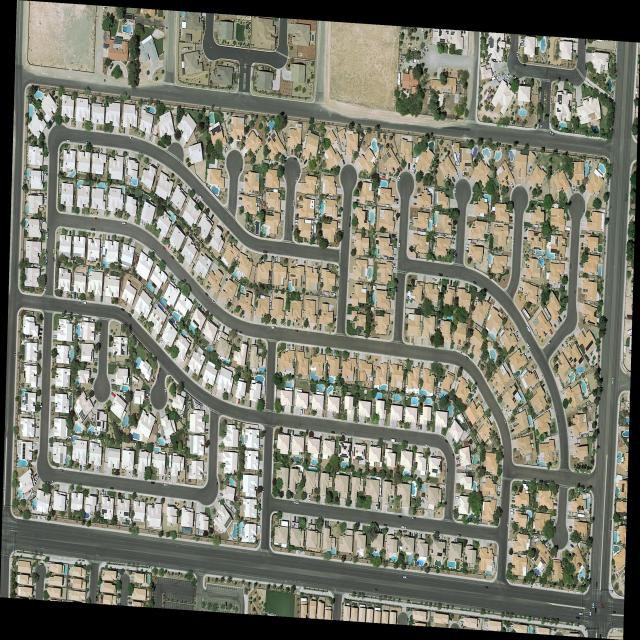large-vehicle: (198, 194, 204, 201), (137, 375, 142, 382), (390, 438, 396, 443), (276, 256, 278, 263)
ship: (534, 537, 539, 544), (532, 534, 537, 539), (412, 47, 416, 52), (523, 63, 526, 67)
small-vehicle: (109, 62, 114, 70), (52, 116, 57, 123), (111, 391, 116, 398), (92, 399, 97, 406), (526, 341, 530, 349), (504, 418, 508, 426), (558, 315, 562, 323), (483, 287, 488, 293), (444, 438, 449, 444), (469, 397, 474, 403), (170, 254, 175, 260), (570, 543, 575, 549), (413, 168, 417, 175), (421, 498, 425, 505), (495, 389, 499, 396), (455, 172, 459, 179), (601, 603, 605, 610), (489, 88, 493, 95), (199, 15, 203, 22), (293, 501, 300, 505), (507, 71, 511, 78), (423, 47, 427, 54), (160, 338, 164, 345), (41, 483, 45, 490), (183, 185, 187, 192), (390, 143, 394, 150), (397, 167, 401, 174), (155, 415, 158, 424), (523, 236, 528, 241), (456, 463, 461, 468), (510, 428, 515, 433), (512, 74, 517, 79), (238, 330, 243, 335), (168, 398, 173, 403), (35, 476, 39, 482), (292, 200, 295, 208), (50, 118, 54, 124), (515, 330, 519, 336), (524, 227, 528, 233), (525, 350, 529, 356), (496, 392, 500, 398), (554, 552, 558, 558), (546, 541, 550, 547), (589, 608, 592, 616), (162, 245, 166, 251), (304, 159, 308, 165), (222, 325, 225, 333), (173, 278, 177, 284), (171, 277, 175, 283), (262, 250, 268, 254), (210, 214, 214, 220), (149, 408, 153, 414), (194, 196, 198, 202), (340, 154, 344, 160), (319, 323, 322, 331), (168, 472, 171, 479), (529, 165, 532, 172), (527, 326, 530, 333), (582, 209, 585, 216), (452, 176, 455, 183), (398, 240, 401, 247), (450, 279, 453, 286), (594, 607, 597, 614), (627, 403, 630, 410), (523, 79, 526, 86), (191, 501, 194, 508), (100, 246, 103, 253), (344, 499, 347, 506), (287, 428, 290, 435), (378, 502, 381, 509), (123, 128, 126, 135), (341, 141, 344, 148), (300, 345, 303, 352), (205, 292, 209, 297), (212, 299, 216, 304), (34, 473, 38, 478), (528, 186, 532, 191), (295, 177, 299, 182), (549, 330, 553, 335), (527, 356, 531, 361), (451, 237, 456, 241), (414, 59, 419, 63), (397, 177, 401, 182), (440, 435, 444, 440), (401, 525, 406, 529), (465, 356, 469, 361), (438, 273, 443, 277), (473, 280, 477, 285), (510, 508, 515, 512), (496, 491, 501, 495), (455, 456, 460, 460), (497, 75, 501, 80), (492, 71, 496, 76), (392, 234, 396, 239), (408, 59, 413, 63), (572, 49, 577, 53), (561, 392, 565, 397), (256, 525, 261, 529), (204, 428, 209, 432), (46, 481, 50, 486), (41, 221, 46, 225), (152, 248, 156, 253), (150, 481, 155, 485), (484, 585, 489, 589), (199, 52, 203, 57), (337, 214, 342, 218), (389, 257, 394, 261), (225, 145, 228, 151), (240, 167, 243, 173), (158, 368, 161, 374), (165, 389, 168, 395), (82, 464, 85, 470), (508, 77, 511, 83), (511, 182, 514, 188), (562, 344, 565, 350), (299, 153, 302, 159), (425, 46, 428, 52), (399, 166, 402, 172), (476, 291, 479, 297), (452, 453, 455, 459), (592, 603, 595, 609), (521, 80, 524, 86), (422, 51, 425, 57), (554, 323, 557, 329), (565, 340, 568, 346), (420, 533, 423, 539), (249, 401, 252, 407), (95, 595, 98, 601), (216, 482, 219, 488), (216, 321, 219, 327), (100, 148, 103, 154), (69, 230, 72, 236), (20, 411, 26, 414), (291, 225, 294, 231), (296, 516, 299, 522), (324, 520, 327, 526), (511, 624, 514, 630), (298, 170, 301, 176), (384, 166, 387, 172), (302, 346, 305, 352), (272, 326, 276, 330), (550, 131, 554, 135), (547, 341, 551, 345), (412, 516, 416, 520), (569, 431, 573, 435), (515, 334, 519, 338), (410, 219, 414, 223), (413, 202, 417, 206), (452, 226, 456, 230), (451, 230, 455, 234), (451, 241, 455, 245), (382, 176, 386, 180), (382, 172, 386, 176), (378, 171, 382, 175), (511, 496, 515, 500), (456, 460, 460, 464), (498, 464, 502, 468), (612, 610, 616, 614), (579, 612, 583, 616), (576, 616, 580, 620), (580, 265, 584, 269), (128, 601, 132, 605), (116, 597, 120, 601), (32, 589, 36, 593), (259, 444, 263, 448), (145, 395, 149, 399), (50, 480, 54, 484), (279, 424, 283, 428), (398, 515, 402, 519), (240, 188, 244, 192), (293, 157, 297, 161), (295, 219, 299, 223), (386, 204, 390, 208), (122, 222, 127, 225), (143, 222, 146, 227), (170, 246, 173, 251), (224, 148, 227, 153), (218, 501, 221, 506), (93, 358, 98, 361), (503, 75, 506, 80), (488, 86, 491, 91), (557, 350, 560, 355), (557, 319, 560, 324), (412, 166, 415, 171), (102, 7, 107, 10), (522, 275, 527, 278), (542, 382, 545, 387), (533, 196, 538, 199), (496, 486, 501, 489), (33, 412, 38, 415), (409, 423, 412, 428), (274, 162, 279, 165), (254, 339, 257, 344), (300, 408, 302, 415), (102, 489, 104, 496), (540, 124, 542, 131), (507, 521, 509, 528), (434, 451, 436, 458), (596, 581, 598, 588), (96, 585, 98, 592), (262, 486, 264, 493), (292, 344, 294, 351), (104, 490, 106, 497), (97, 490, 99, 497), (320, 435, 322, 442), (292, 492, 294, 499), (507, 626, 509, 633), (333, 349, 335, 356), (331, 349, 333, 356), (321, 348, 323, 355), (213, 69, 215, 76), (151, 379, 154, 383), (152, 376, 155, 380), (141, 220, 143, 226), (149, 135, 151, 141), (376, 505, 378, 511), (292, 322, 294, 328), (349, 222, 351, 228), (46, 257, 48, 263), (91, 228, 95, 231), (72, 292, 74, 298), (74, 292, 76, 298), (14, 351, 16, 357), (99, 330, 101, 336), (91, 319, 95, 322), (33, 443, 37, 446), (80, 465, 82, 471), (96, 466, 98, 472), (86, 574, 90, 577), (164, 483, 168, 486), (520, 43, 524, 46), (505, 77, 508, 81), (519, 287, 523, 290), (581, 99, 583, 105), (573, 185, 575, 191), (575, 186, 577, 192), (454, 188, 456, 194), (408, 163, 410, 169), (394, 201, 398, 204), (393, 247, 397, 250), (425, 444, 429, 447), (403, 576, 407, 579), (45, 285, 47, 291), (46, 233, 48, 239), (414, 195, 417, 199), (517, 337, 520, 341), (453, 281, 455, 287), (509, 219, 513, 222), (509, 216, 513, 219), (466, 247, 470, 250), (417, 228, 421, 231), (378, 175, 382, 178), (420, 424, 422, 430), (104, 48, 108, 51), (434, 530, 438, 533), (510, 518, 514, 521), (510, 512, 514, 515), (511, 500, 515, 503), (409, 445, 411, 451), (432, 452, 434, 458), (554, 503, 558, 506), (294, 516, 296, 522), (551, 519, 555, 522), (554, 499, 557, 503), (569, 526, 573, 529), (580, 235, 584, 238), (579, 262, 583, 265), (568, 512, 572, 515), (441, 535, 443, 541), (418, 533, 420, 539), (116, 576, 120, 579), (257, 513, 261, 516), (288, 344, 290, 350), (275, 256, 277, 262), (162, 474, 164, 480), (136, 495, 138, 501), (43, 197, 47, 200), (111, 379, 115, 382), (50, 444, 54, 447), (110, 487, 114, 490), (328, 435, 330, 441), (371, 441, 373, 447), (384, 523, 388, 526), (410, 531, 412, 537), (460, 621, 464, 624), (509, 624, 511, 630), (239, 197, 243, 200), (379, 155, 381, 161), (395, 198, 399, 201), (337, 222, 341, 225), (393, 254, 397, 257), (392, 263, 396, 266), (168, 244, 170, 249), (238, 399, 240, 404), (157, 374, 159, 379), (76, 293, 78, 298), (99, 466, 101, 471), (513, 239, 515, 244), (291, 150, 293, 155), (455, 497, 460, 499), (446, 469, 448, 474), (53, 249, 55, 254), (91, 124, 93, 129), (43, 173, 48, 175), (454, 538, 456, 543), (416, 423, 418, 428), (108, 235, 110, 240), (411, 532, 413, 537), (386, 443, 388, 448), (292, 430, 294, 435), (311, 519, 313, 524), (327, 521, 329, 526), (220, 493, 223, 496), (146, 393, 149, 396), (60, 469, 63, 472), (40, 563, 43, 566), (47, 567, 50, 570), (131, 578, 134, 581), (352, 233, 355, 236), (501, 73, 504, 76), (393, 267, 396, 270), (466, 250, 469, 253), (570, 436, 573, 439), (295, 222, 298, 225), (220, 166, 224, 168), (130, 137, 134, 139), (341, 433, 345, 435), (331, 432, 335, 434), (94, 218, 98, 220), (83, 302, 87, 304), (53, 336, 57, 338), (374, 589, 378, 591), (466, 244, 470, 246), (443, 537, 445, 541), (332, 414, 334, 418), (309, 495, 310, 502), (612, 377, 613, 384), (463, 170, 464, 177), (295, 330, 298, 332), (67, 292, 68, 298), (517, 51, 518, 57), (521, 40, 524, 42), (410, 223, 413, 225), (458, 535, 461, 537), (67, 140, 70, 142), (86, 142, 89, 144), (228, 141, 229, 146), (350, 217, 351, 222), (386, 134, 387, 139), (408, 531, 409, 536), (129, 471, 130, 475)
